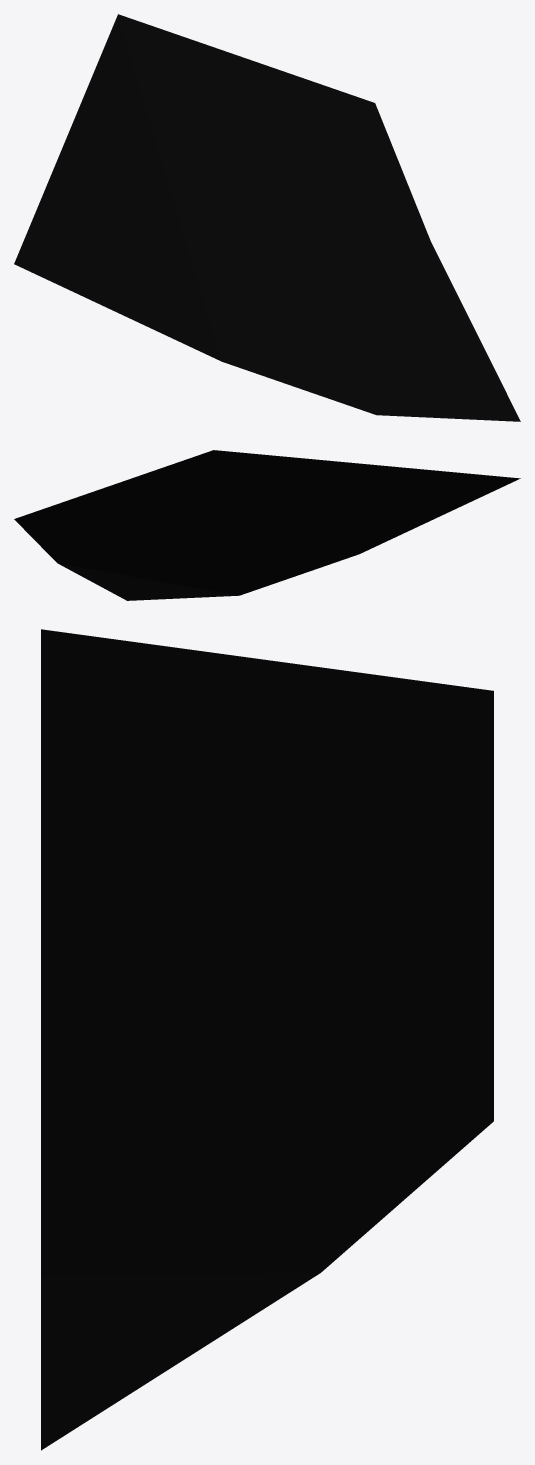
3 renders of one model, top to bottom at view 1: azimuth 30°, elevation 25°; view 2: azimuth 150°, elevation 25°; view 3: azimuth 270°, elevation 25°, orthographic. The views are drawn at different scales.
Size of the model in its own units: 2.83 by 1.94 by 1.41.
2 materials, 2 textured.
